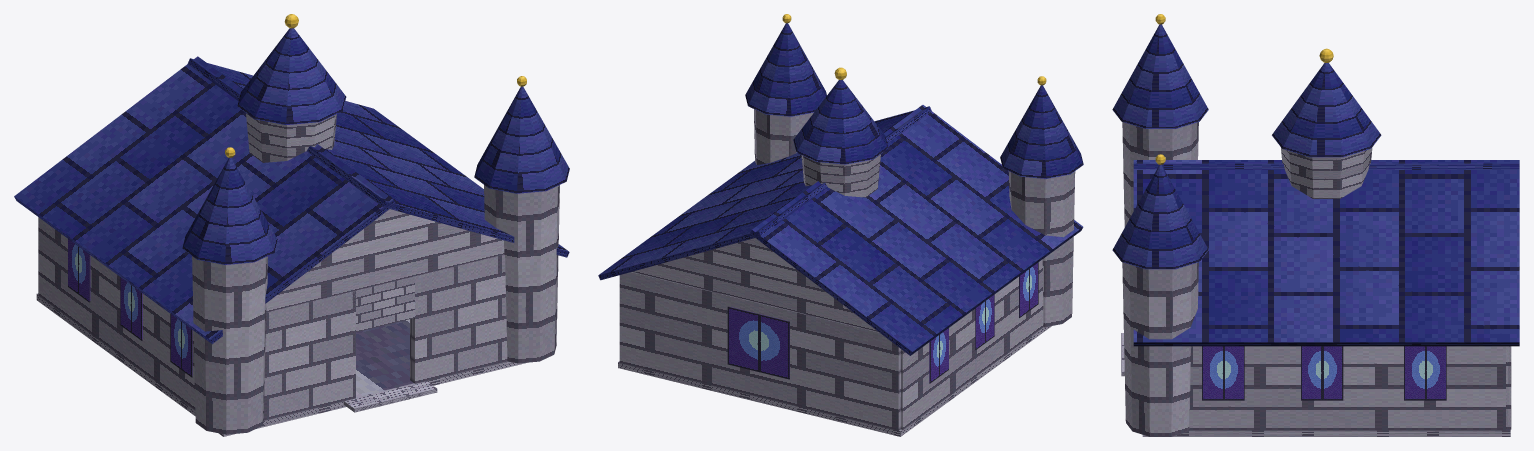
The model's file is escola_de_magia.glb.
3 renders of one model, left to right at view 1: azimuth 30°, elevation 25°; view 2: azimuth 150°, elevation 25°; view 3: azimuth 270°, elevation 25°, orthographic. The views are drawn at different scales.
Parts seen in each view (by area): view 1: Roof_Wizard_Spires, Walls_Academy, Floor_Arcane_Hall; view 2: Roof_Wizard_Spires, Walls_Academy, Floor_Arcane_Hall; view 3: Roof_Wizard_Spires, Walls_Academy, Floor_Arcane_Hall.
Part boxes in pixels (bbox=[...]): Roof_Wizard_Spires: bbox=[14, 14, 569, 434]; Walls_Academy: bbox=[38, 217, 507, 420]; Floor_Arcane_Hall: bbox=[36, 293, 526, 436]; Roof_Wizard_Spires: bbox=[598, 14, 1083, 355]; Walls_Academy: bbox=[619, 259, 1043, 430]; Floor_Arcane_Hall: bbox=[618, 326, 1051, 436]; Roof_Wizard_Spires: bbox=[1112, 14, 1519, 436]; Walls_Academy: bbox=[1189, 346, 1511, 430]; Floor_Arcane_Hall: bbox=[1121, 333, 1510, 436].
Size of the model in its own units: 18.89 by 15.24 by 18.15.
1 material, 1 textured.
